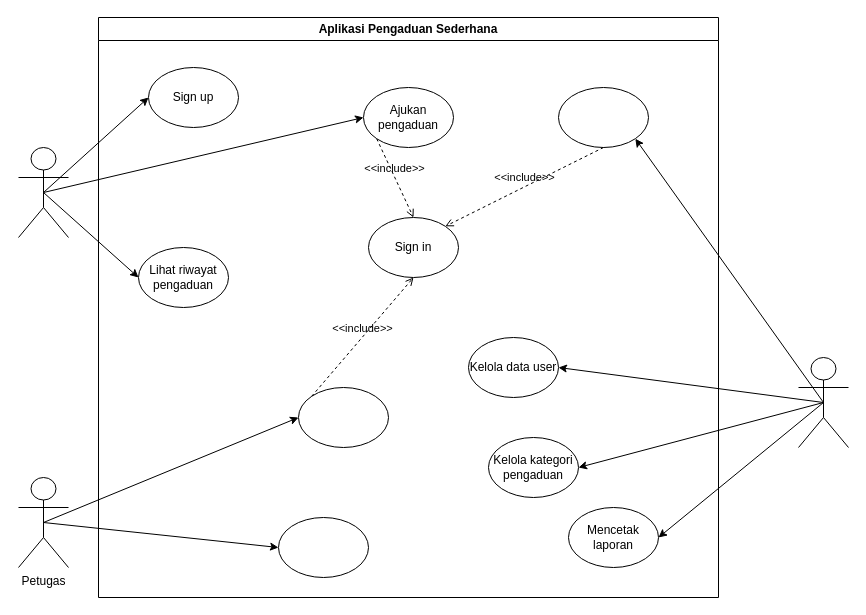
Some shapes in this 866 by 615 pixel diagram are drawn without their labels. The shapes that lost their labels are listed below. From the top down, each one's centre as x and y in pixels, then its label:
At (x=603, y=117): "Approve pengaduan".
At (x=43, y=192): "Customer".
At (x=343, y=417): "Update status pengaduan".
At (x=823, y=402): "Admin".
At (x=323, y=547): "Mengisi laporan".
